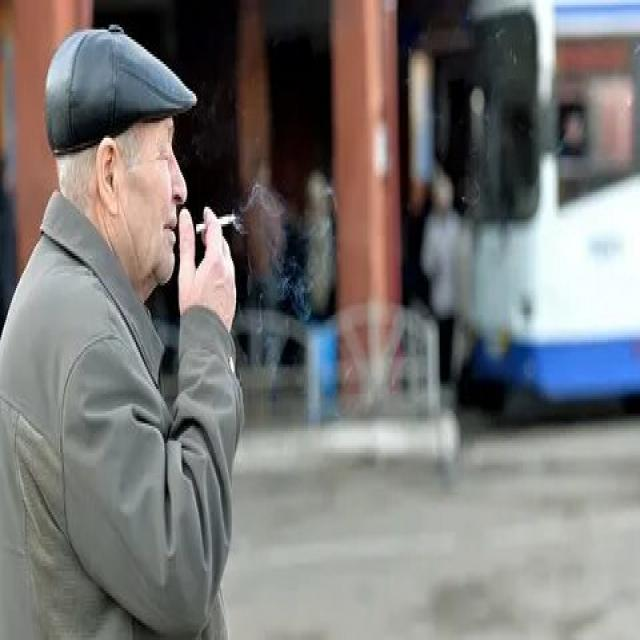smoke: (194, 207, 247, 236)
